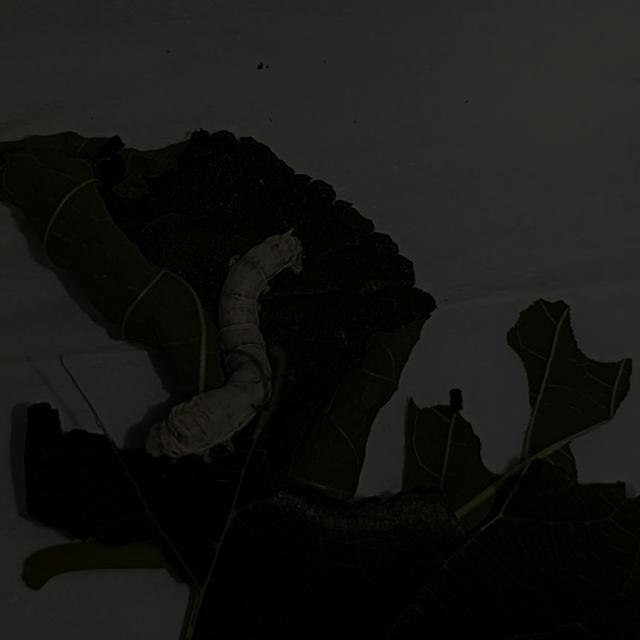Healthy: (122, 216, 410, 532)
